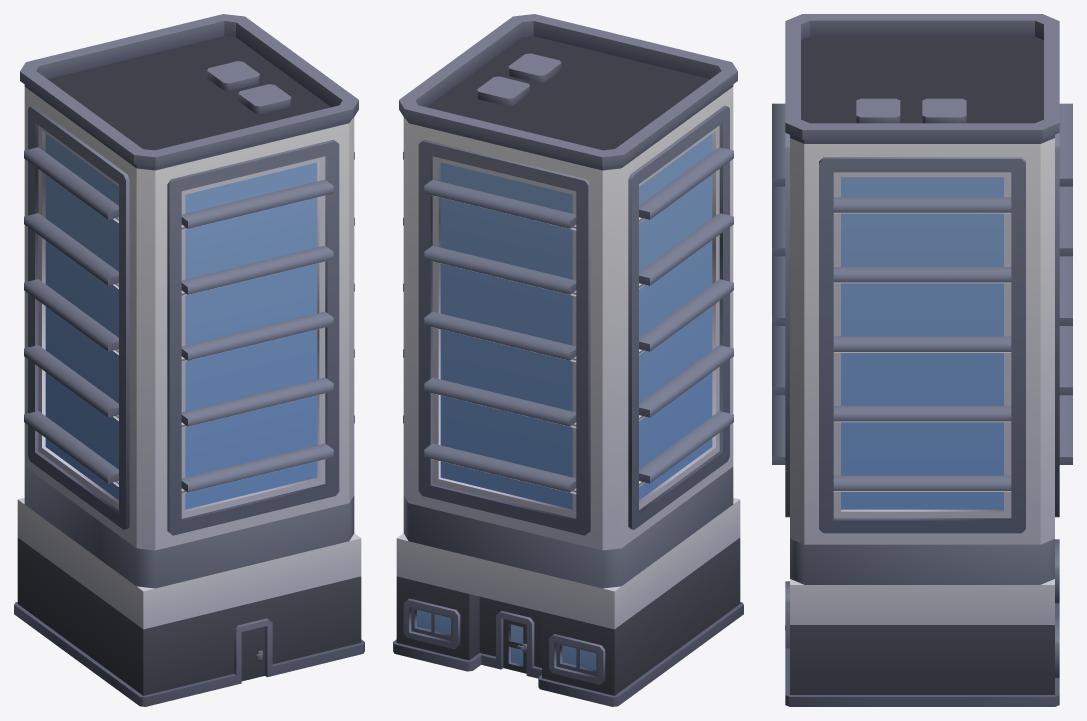
File: large_house.glb
3 views of the same model, side by side, from view 1: azimuth 30°, elevation 25°; view 2: azimuth 150°, elevation 25°; view 3: azimuth 270°, elevation 25° (orthographic). The views are drawn at different scales.
Visible parts, largest first — view 1: building-skyscraper-a; view 2: building-skyscraper-a; view 3: building-skyscraper-a.
Boxes of the visible parts, <box> form: building-skyscraper-a: <box>14,14,364,706</box>; building-skyscraper-a: <box>393,14,743,706</box>; building-skyscraper-a: <box>772,14,1072,706</box>.
Bounding box in the file's own units: 1.36 × 2.88 × 1.36.
1 material, 1 textured.
